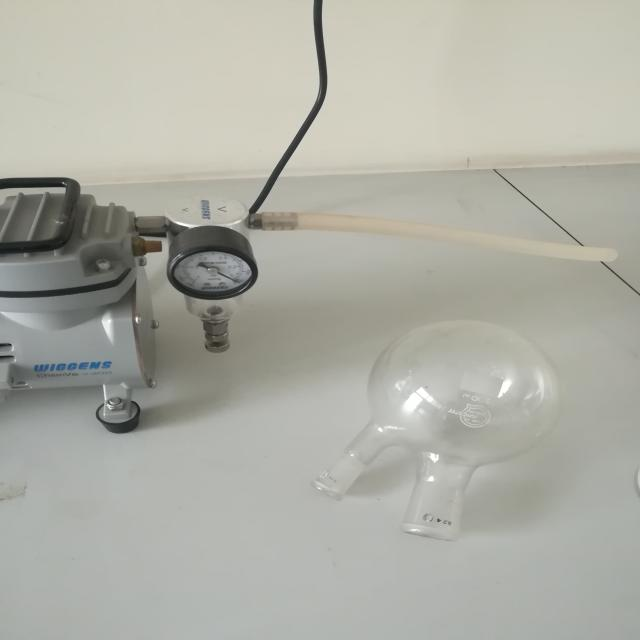Round_Bottom_Flask_Borosilicate_Glass_2_Neck: (295, 288, 580, 592)
